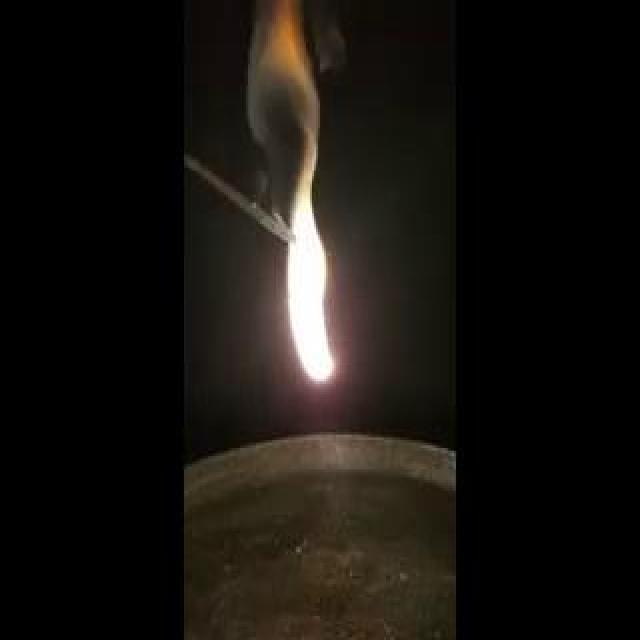Fire: (84, 222, 301, 304)
